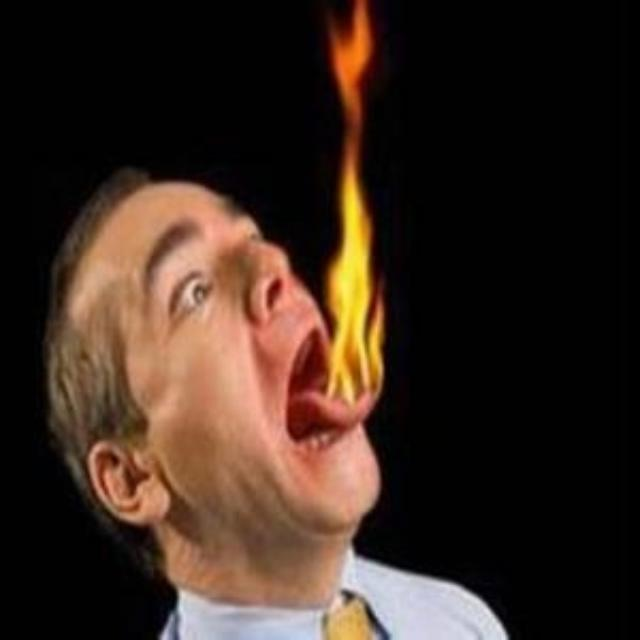fire: (316, 2, 393, 395)
